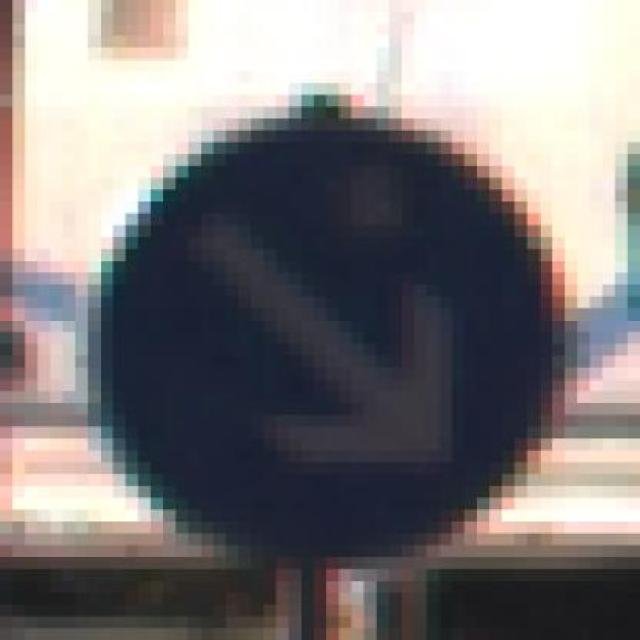Keep-Right: (62, 94, 590, 568)
